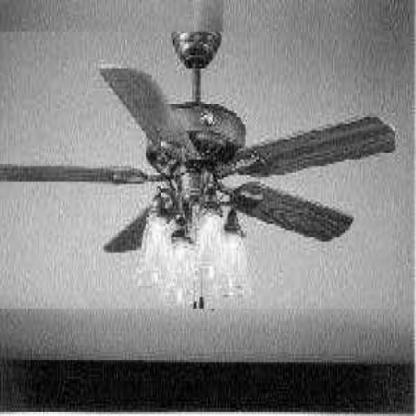ceiling-fan: (0, 32, 396, 310)
